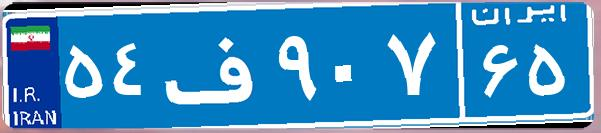0: (330, 28, 385, 110)
4: (110, 28, 158, 105)
5: (57, 26, 110, 107), (525, 38, 570, 115)
6: (475, 38, 525, 113)
7: (385, 28, 445, 110)
9: (273, 28, 330, 110)
ف: (158, 15, 273, 115)
